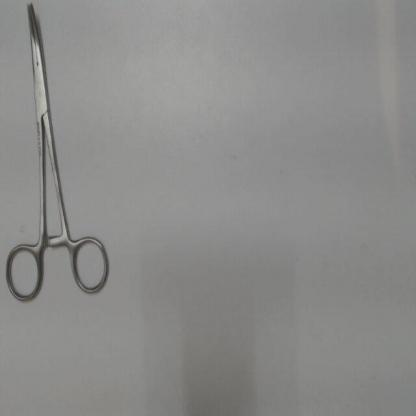Crile Artery Forceps: (1, 2, 113, 309)
